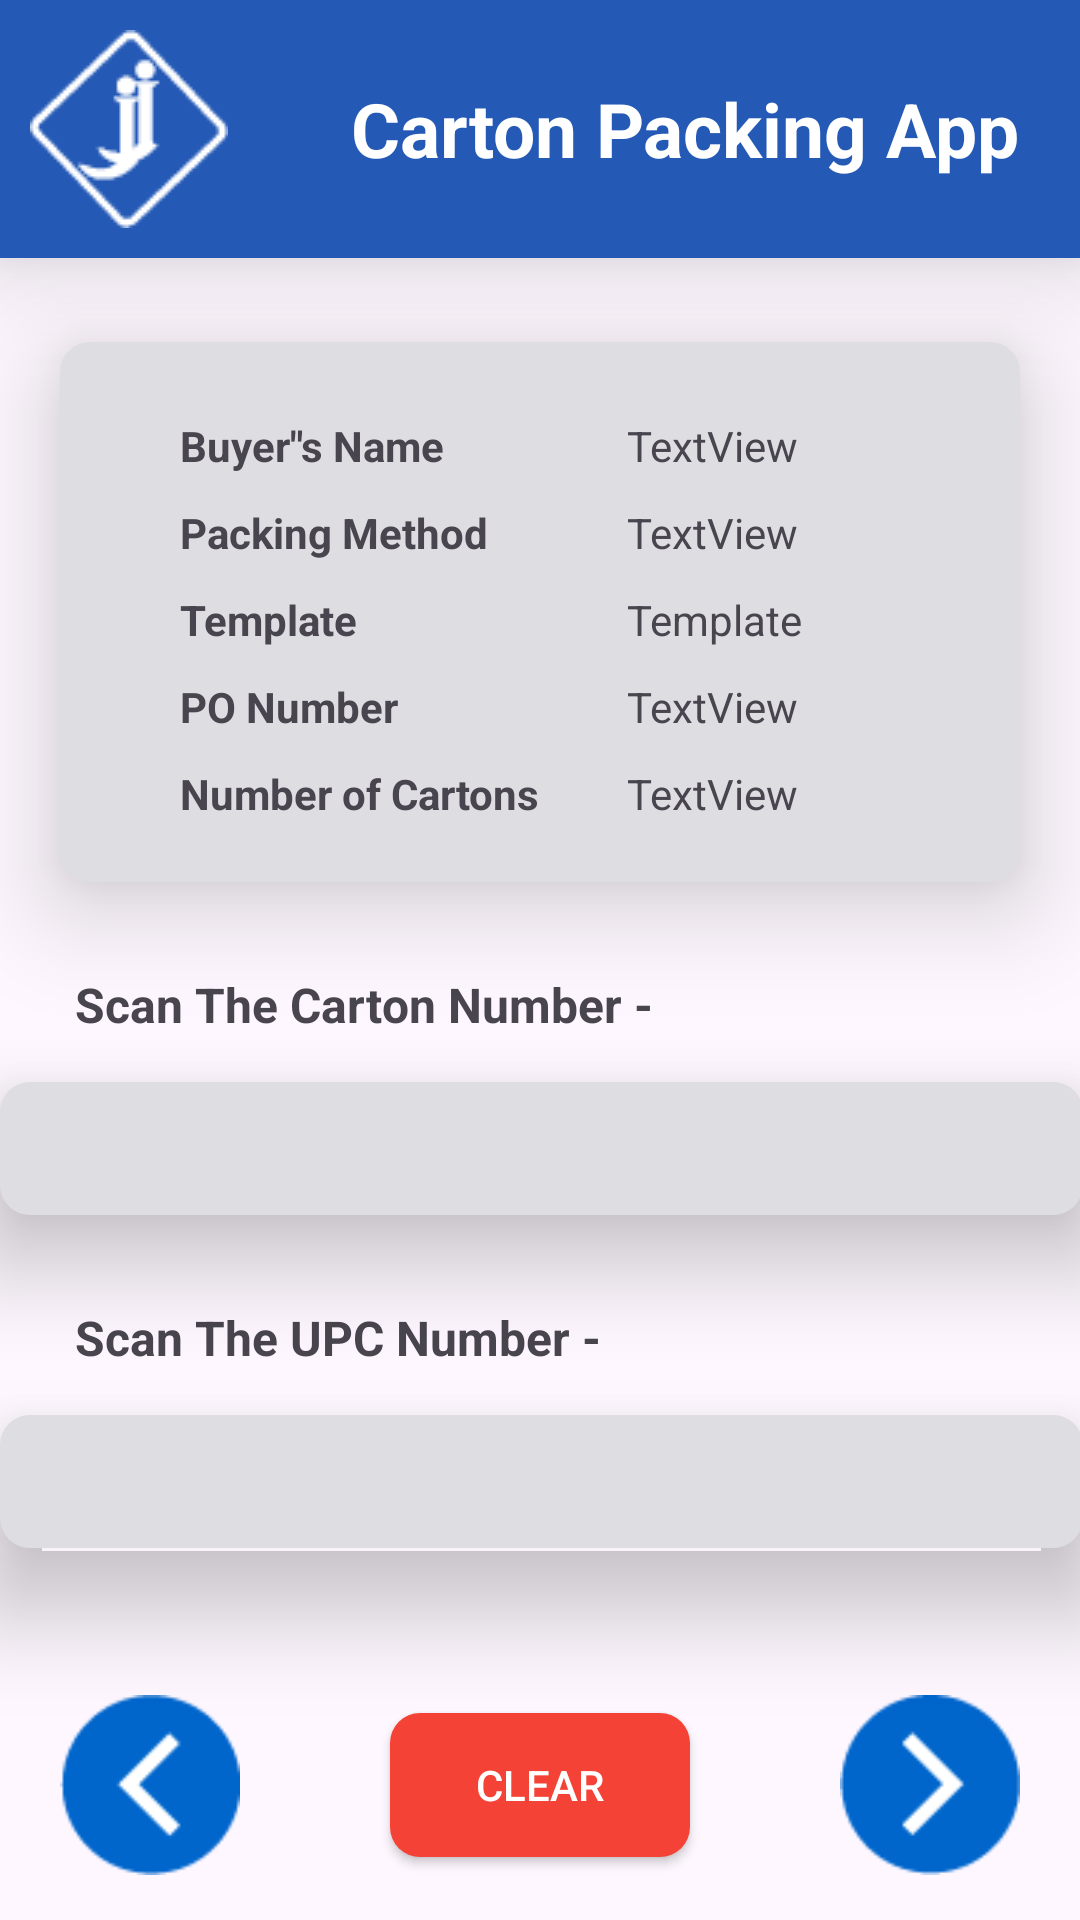

Icon click points for this 1080px x 1920px phone screenshot, format [x,y]:
back: [150,1785]
forward: [930,1785]
